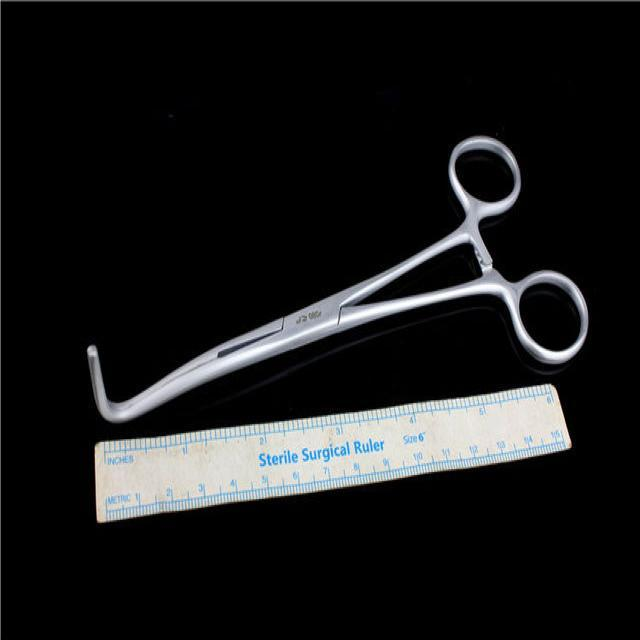Rectangle Cholecystectomy Forceps: (81, 124, 598, 426)
